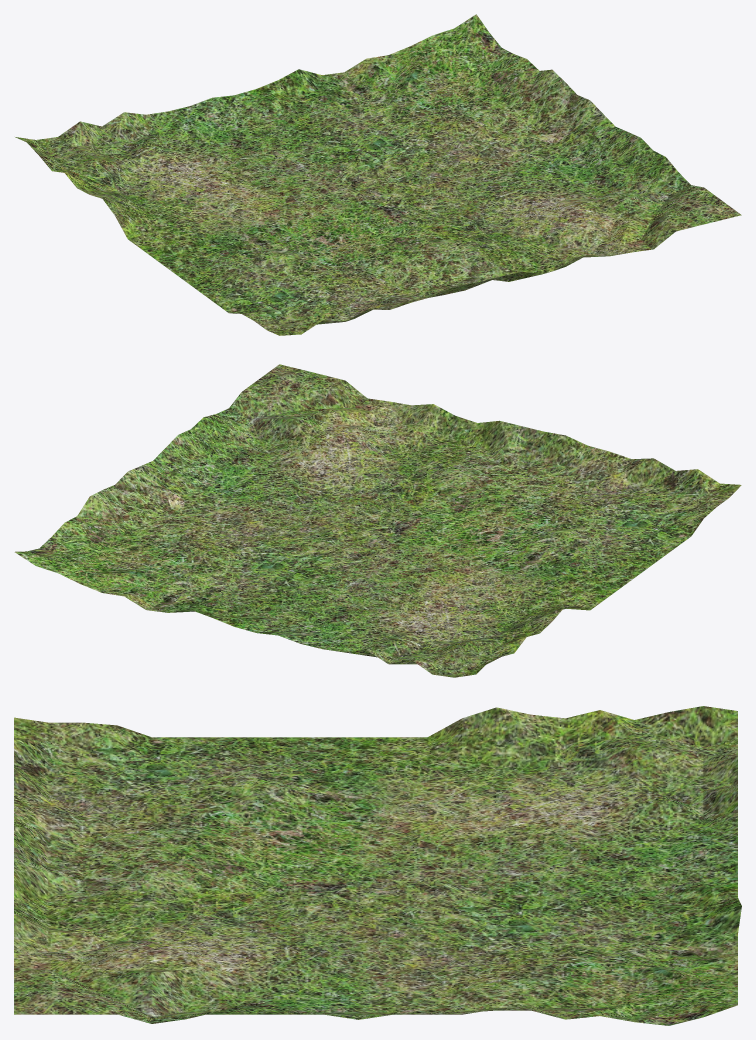
File: terrain.obj
3 views of the same model, one above another, from view 1: azimuth 30°, elevation 25°; view 2: azimuth 150°, elevation 25°; view 3: azimuth 270°, elevation 25° (orthographic). The views are drawn at different scales.
Visible parts, largest first — view 1: Plane; view 2: Plane; view 3: Plane.
Boxes of the visible parts, x1,y1,x2,y2 form: Plane: [15, 14, 741, 335]; Plane: [14, 364, 741, 677]; Plane: [14, 706, 741, 1025].
Bounding box in the file's own units: 10000 × 600 × 10000.
1 material, 1 textured.
